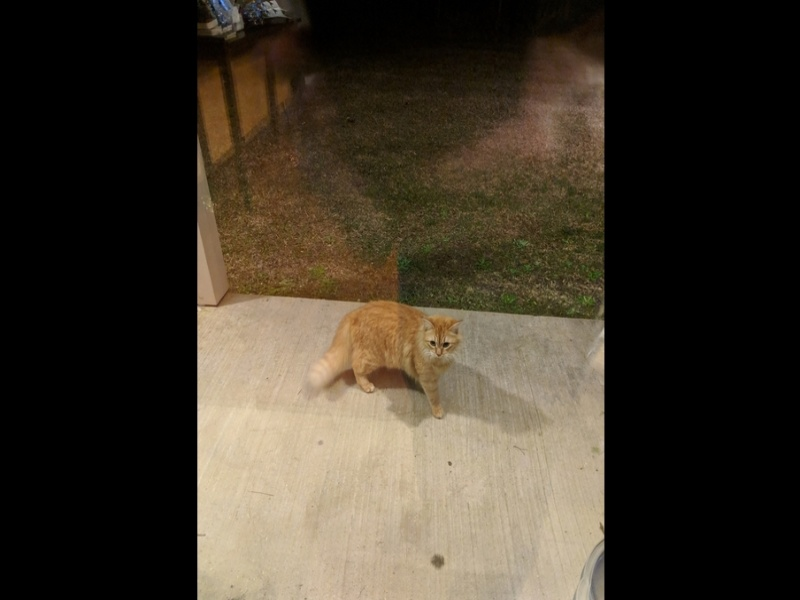cat: (300, 298, 468, 424)
